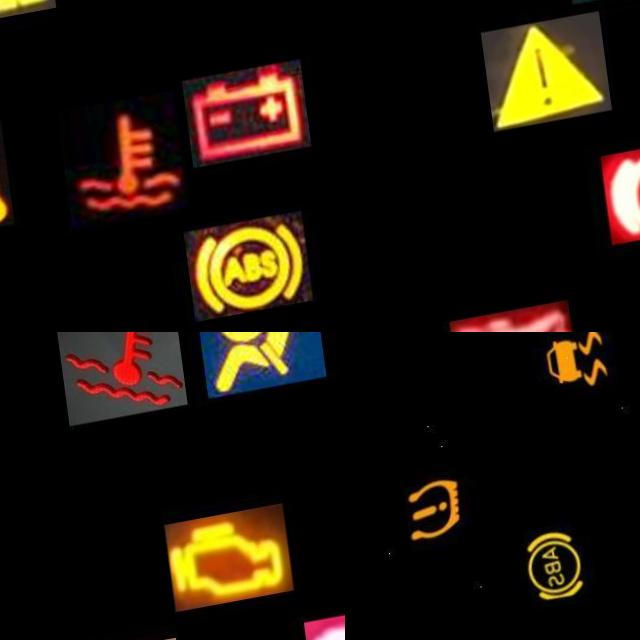Central Warning lamp: (476, 22, 605, 138)
Engine cooling system: (47, 103, 177, 238), (50, 332, 180, 428)
